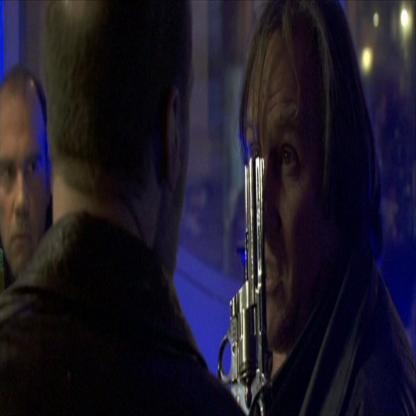gun: (231, 153, 277, 408)
